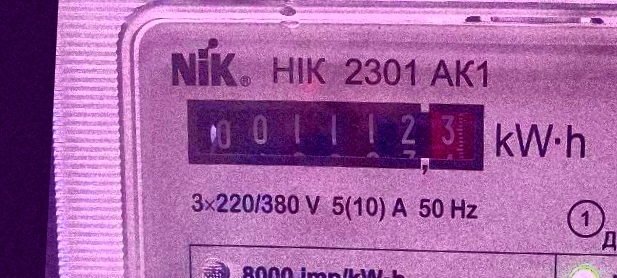0: (248, 109, 272, 148), (212, 114, 235, 151)
1: (287, 108, 307, 147), (325, 109, 341, 148), (363, 109, 379, 146)
2: (396, 110, 420, 147)
3: (437, 111, 457, 147)
screen: (177, 86, 493, 182)
